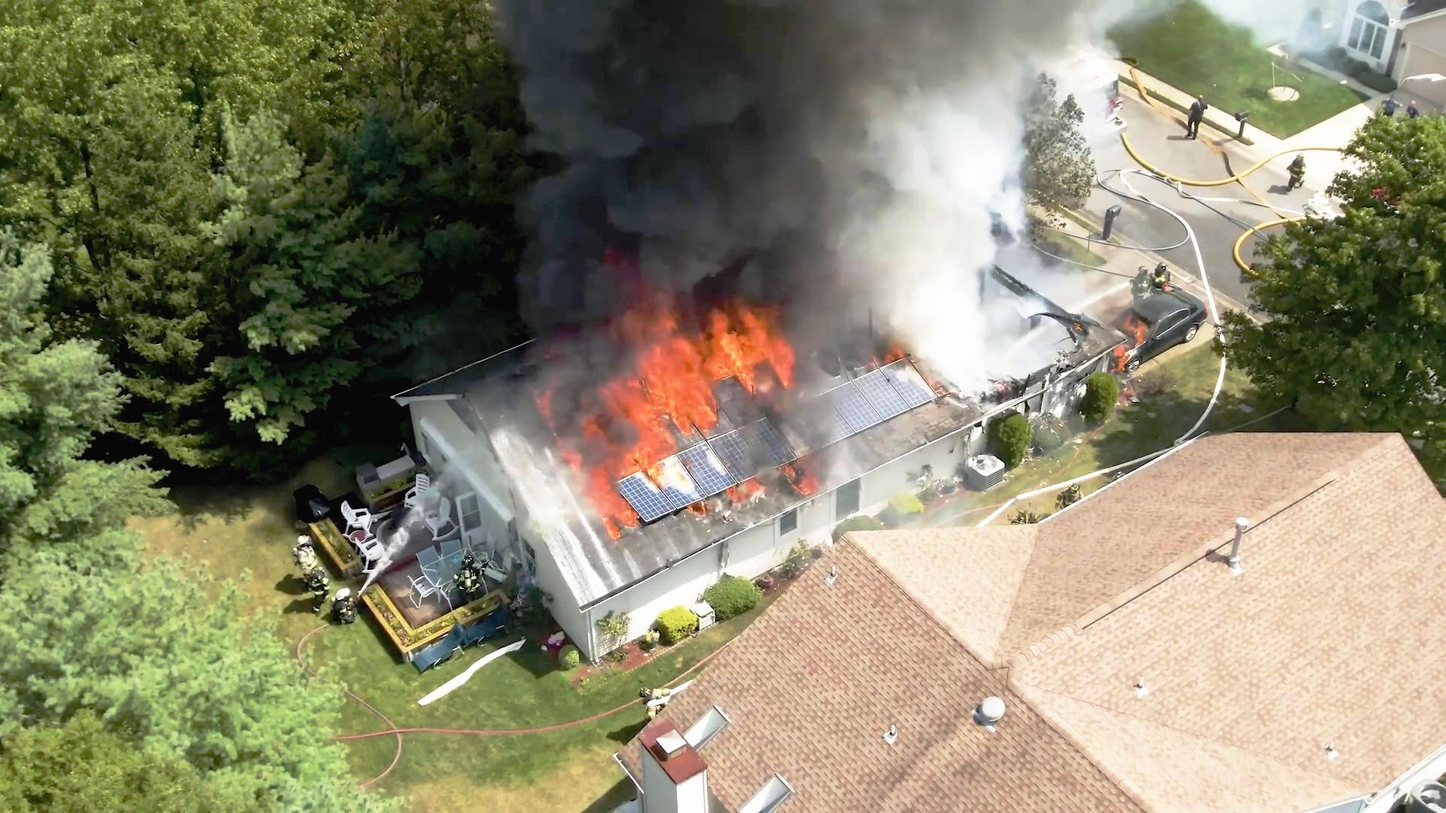fire: (566, 273, 808, 457)
